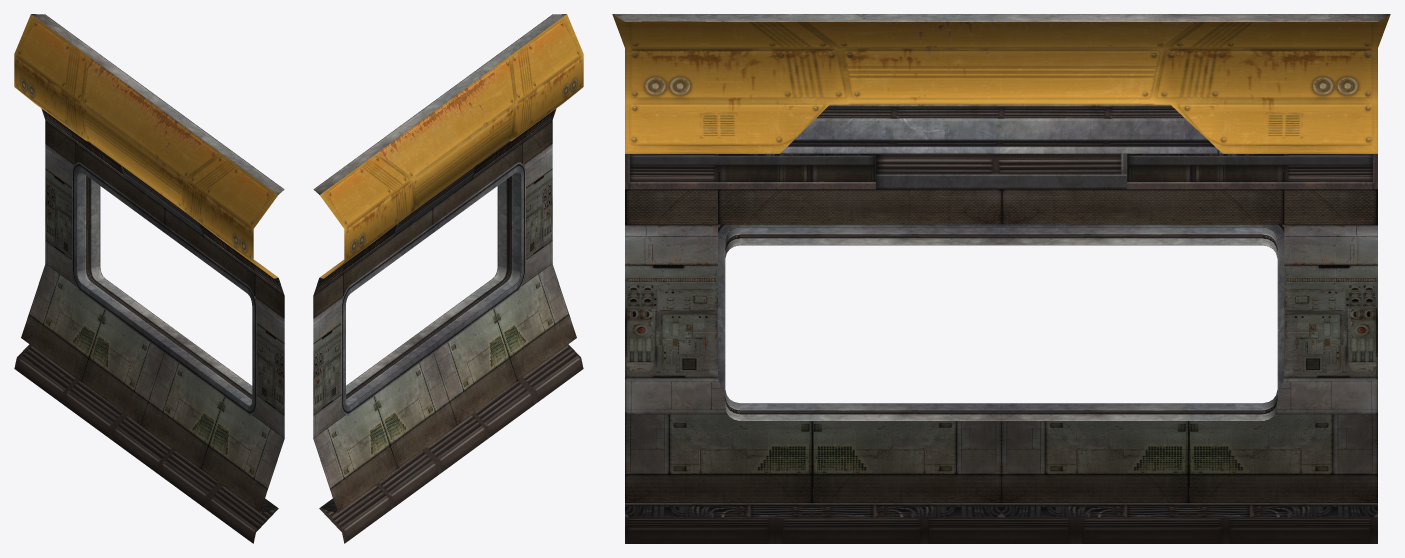
Rendered from ARC_WallSideA_WindowOneSide.FBX.
3 views of the same model, side by side, from view 1: azimuth 30°, elevation 25°; view 2: azimuth 150°, elevation 25°; view 3: azimuth 270°, elevation 25° (orthographic). The views are drawn at different scales.
Visible parts, largest first — view 1: ARC_WallSideA_WindowOneSide; view 2: ARC_WallSideA_WindowOneSide; view 3: ARC_WallSideA_WindowOneSide.
Boxes of the visible parts, x1,y1,x2,y2 form: ARC_WallSideA_WindowOneSide: [14, 14, 284, 543]; ARC_WallSideA_WindowOneSide: [313, 14, 583, 543]; ARC_WallSideA_WindowOneSide: [612, 14, 1390, 543].
Size of the model in its own units: 65.17 by 400 by 517.
1 material, 1 textured.
